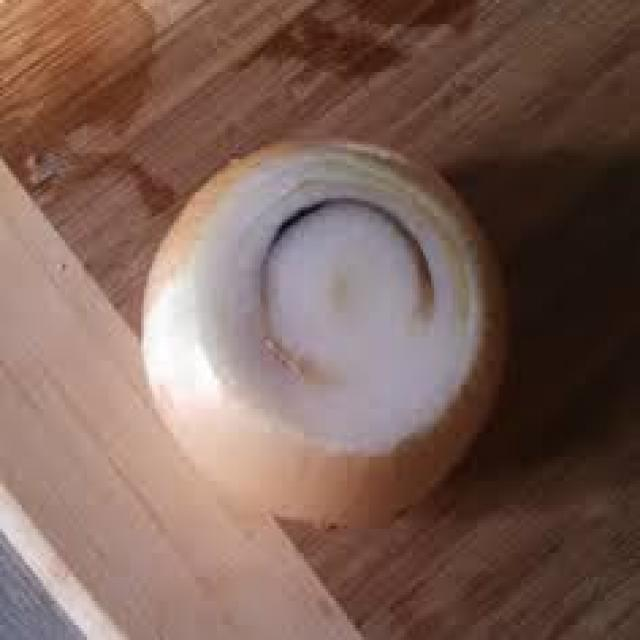Onion: (143, 138, 506, 525)
